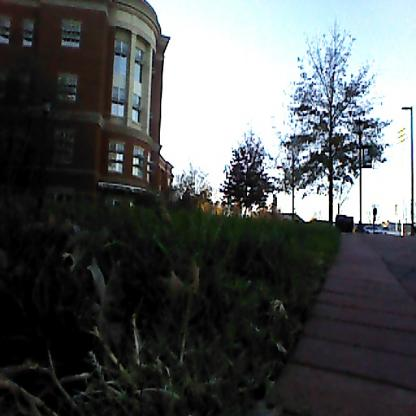Edge: (202, 228, 416, 416)
Sidewalk: (348, 231, 416, 303)
